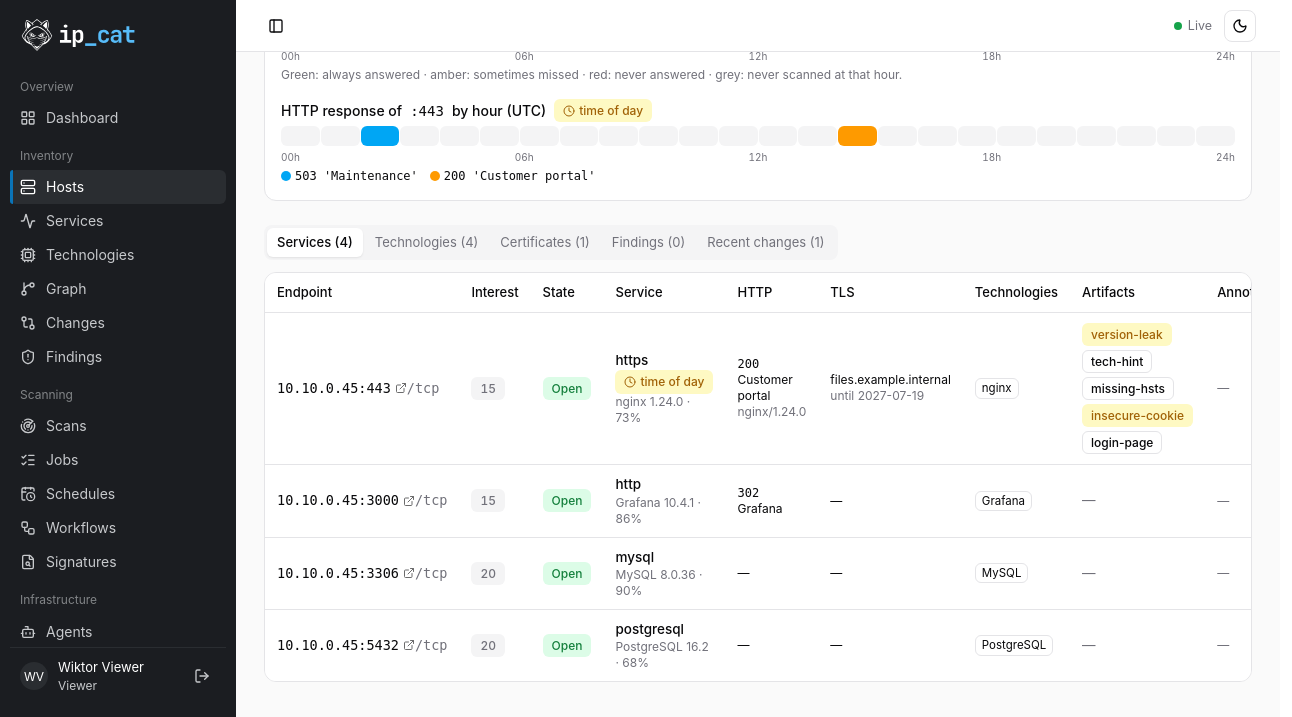
Test: service detail › is linked from the services table, which shows artifact badges
This screenshot has width=1292, height=717.
(page scrolled)
expect the text "insecure-cookie" is shown: met, box 1082,404 -> 1193,427
Click the link "https" at (632, 360), box 616,352 -> 648,368
(page scrolled)
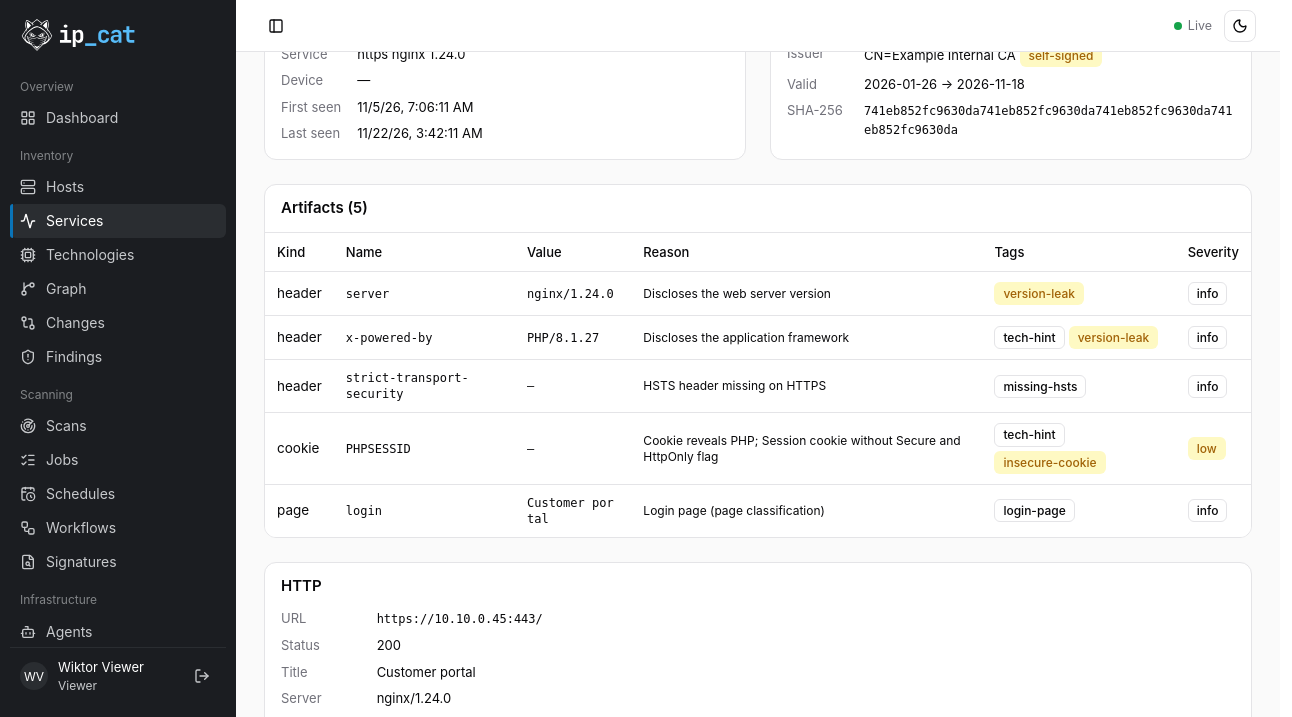
expect the element with test id "artifacts-section" is shown: met, box 264,184 -> 1252,538
